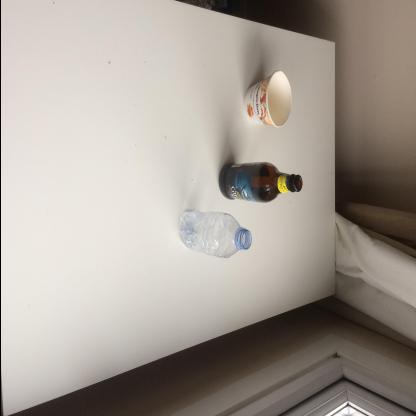cam: (218, 162, 302, 202)
karton: (243, 70, 291, 127)
plastik: (178, 210, 251, 259)
